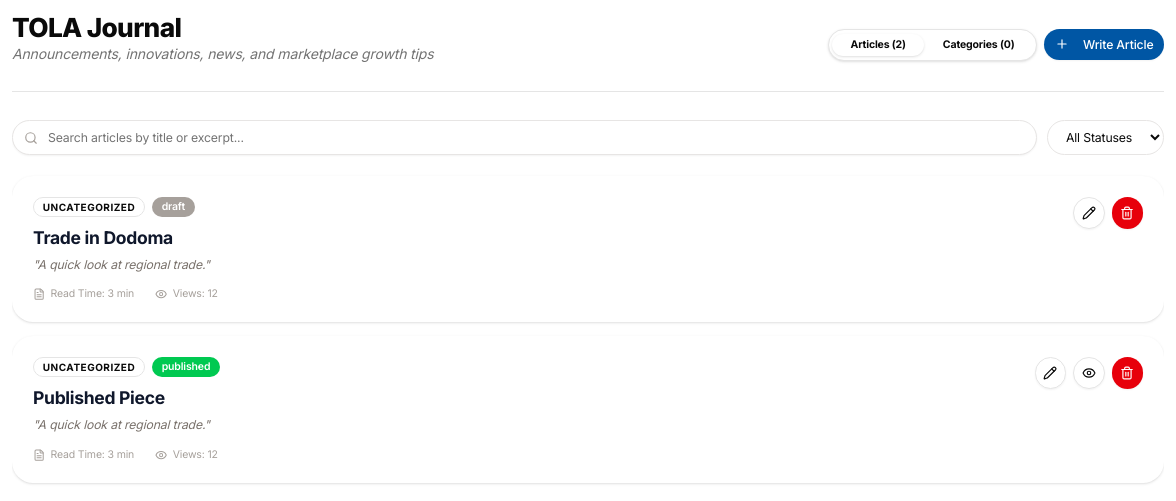
Test: BlogManagementTab › narrows the list by status
Select "Published" in the dropdown showing "All Statuses" at [1106, 138], box [1047,120,1164,155]
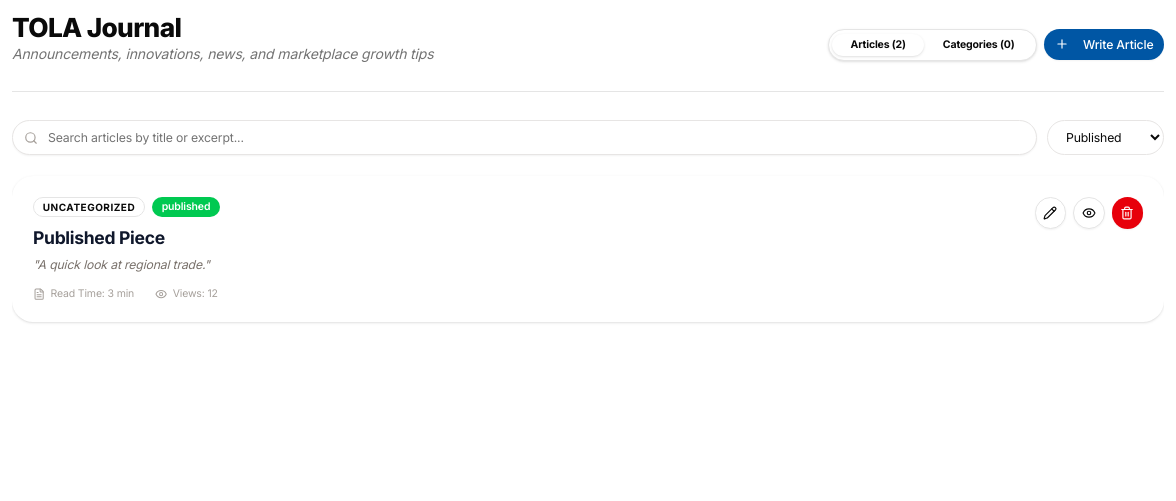
Expected: the heading "Published Piece" is shown, [33,227,165,248]
Expected: the heading "Trade in Dodoma" is gone
